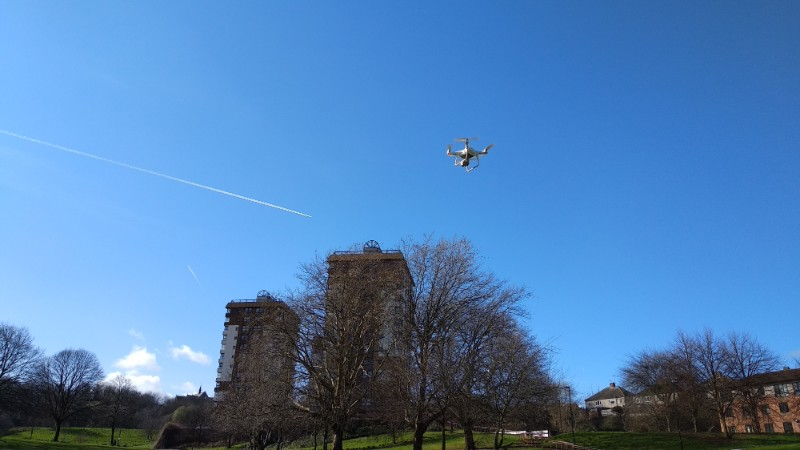drone: (445, 135, 495, 173)
